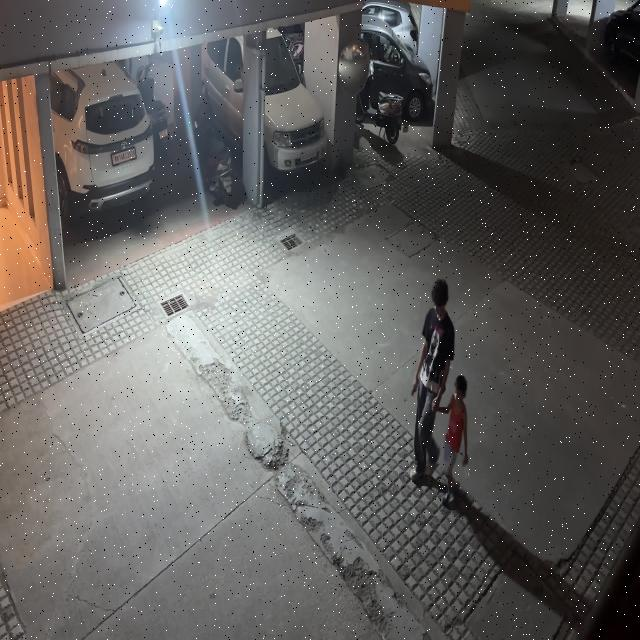human: (407, 260, 452, 483), (432, 342, 475, 506)
trash: (458, 446, 474, 484)
